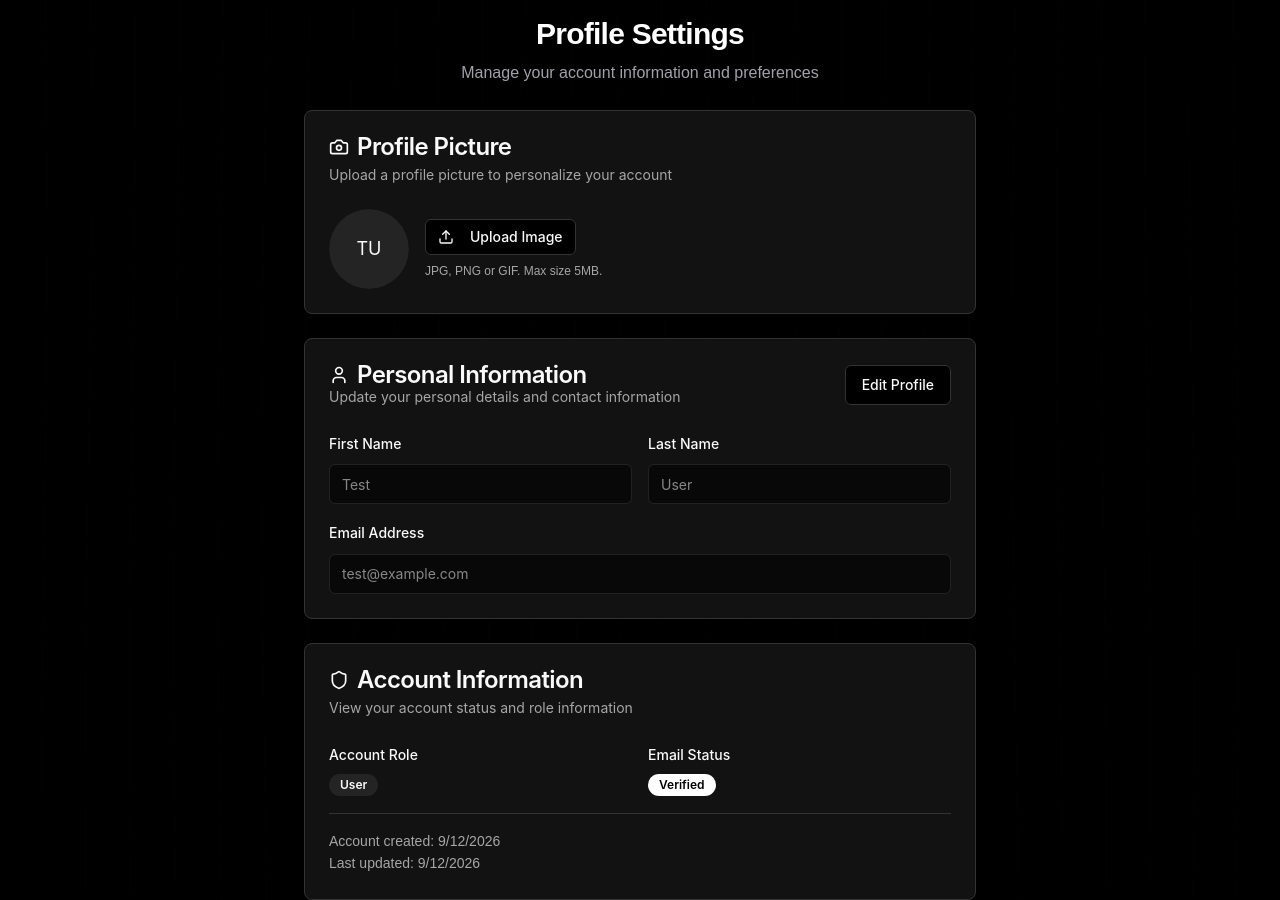
Scenario: UserProfile Page › should validate required fields
This screenshot has width=1280, height=900.
# Enter edit mode
Click the button "Edit Profile" at (898, 385), box left=845, top=365, right=951, bottom=405
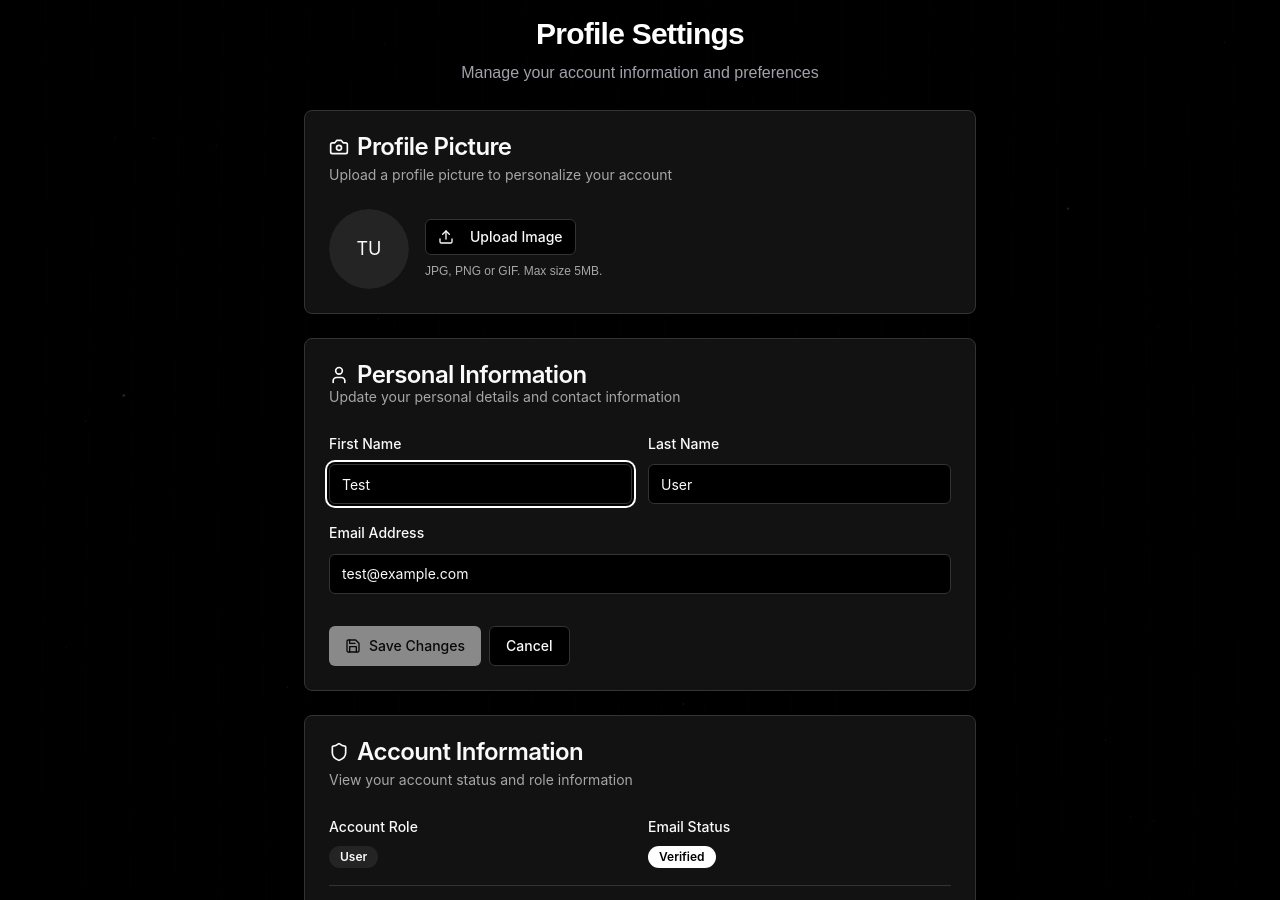
Expected: the button "Save Changes" is shown, left=329, top=626, right=481, bottom=666
# Clear first name field
Clear the field showing "Test" at (480, 484), box left=329, top=464, right=632, bottom=504
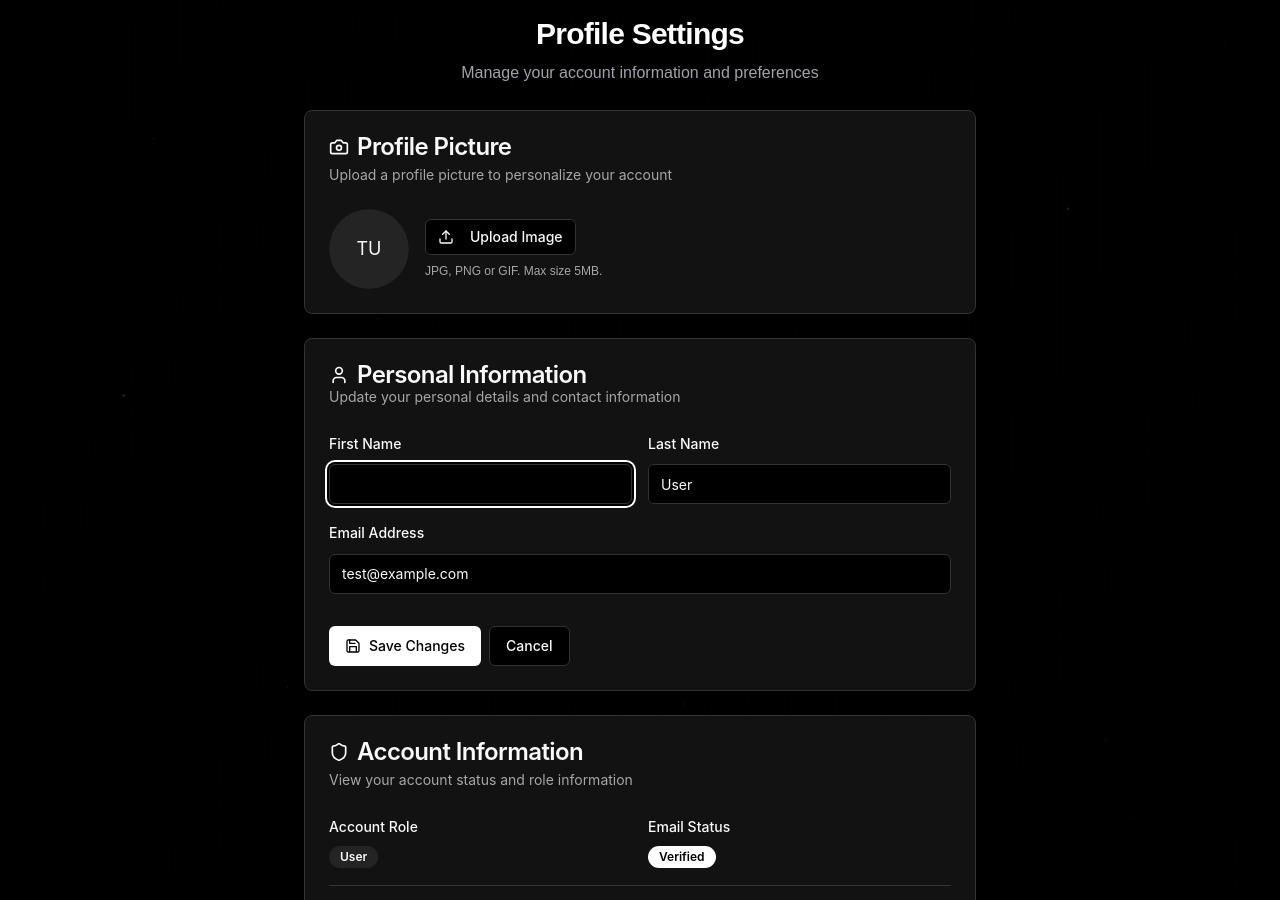
# Try to save
Click the button "Save Changes" at (405, 646), box left=329, top=626, right=481, bottom=666
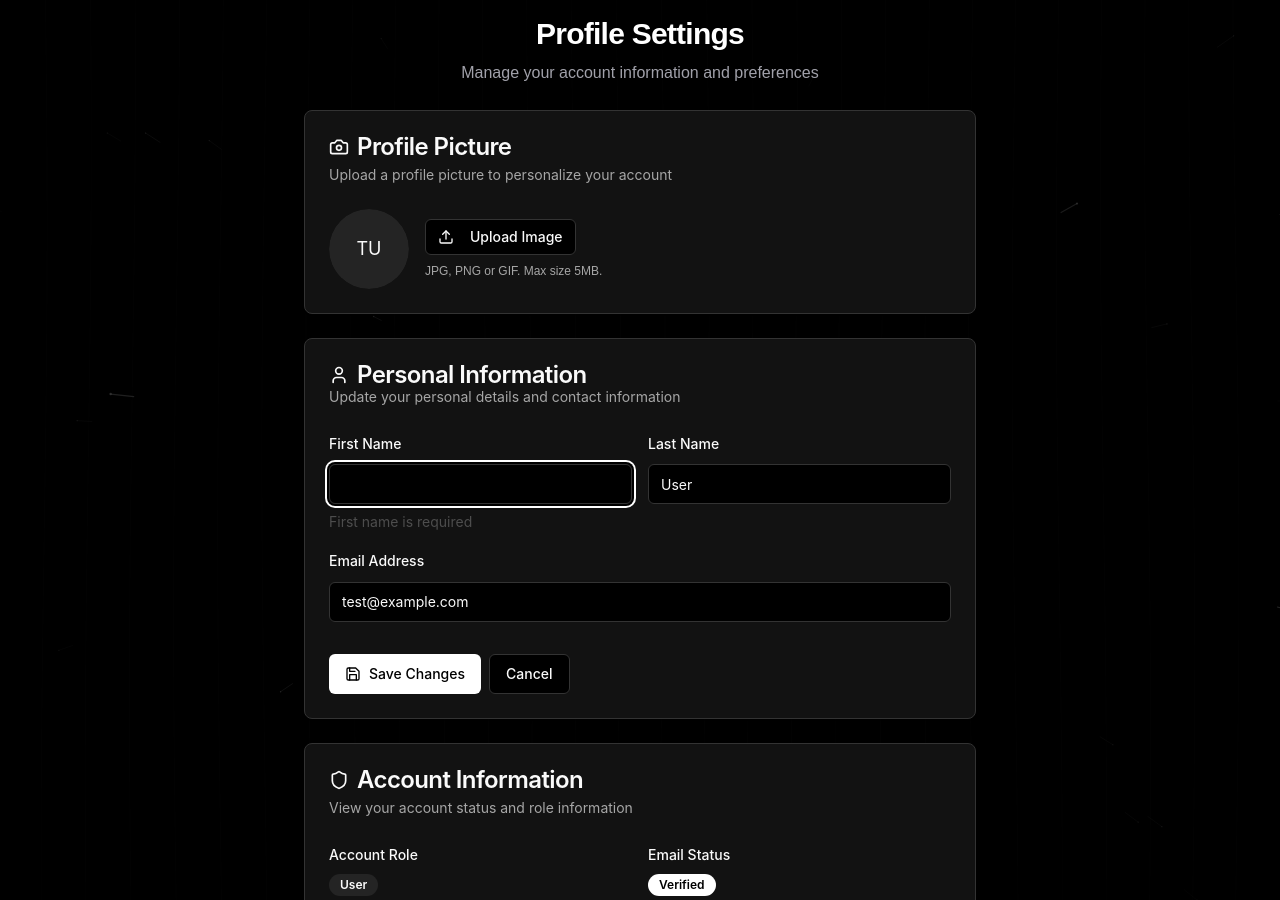
Expected: the text "First name is required" is shown, left=329, top=513, right=472, bottom=530
